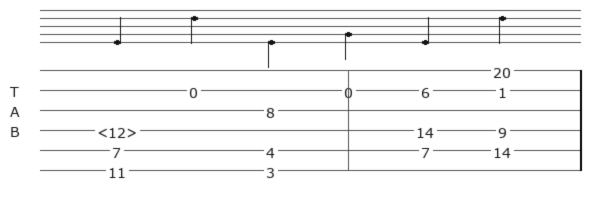0: (189, 83, 202, 97), (344, 83, 357, 97)
1: (498, 83, 511, 97)
11: (108, 163, 130, 177)
14: (416, 123, 438, 137), (493, 143, 515, 157)
20: (493, 63, 515, 77)
3: (266, 163, 279, 177)
4: (266, 143, 279, 157)
6: (421, 83, 434, 97)
7: (112, 143, 125, 157), (421, 143, 434, 157)
8: (266, 103, 279, 117)
9: (498, 123, 511, 137)
harmonic: (97, 123, 141, 137)
